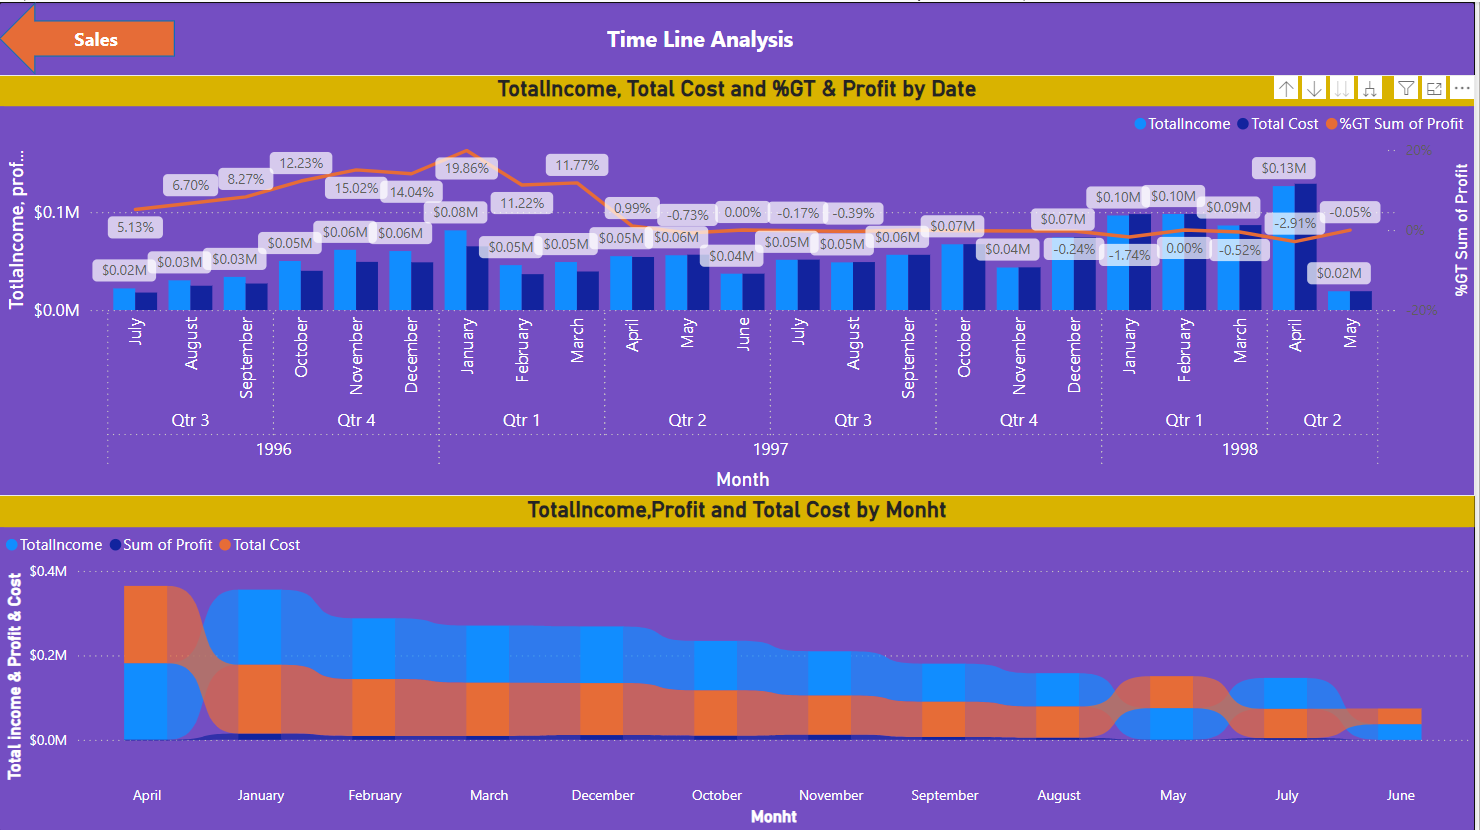

The page's visual inventory and layout, read from the dashboard file:
{"tool":"powerbi","page":{"name":"TimeLine","canvas":[1280,720],"ordinal":11},"visuals":[{"type":"lineClusteredColumnComboChart","title":"TotalIncome, Total Cost and %GT & Profit by Date","fields":{"Category":["calendar.Date.Variation.Date Hierarchy.Year","calendar.Date.Variation.Date Hierarchy.Quarter","calendar.Date.Variation.Date Hierarchy.Month","calendar.Date.Variation.Date Hierarchy.Day"],"Y":["Details.TotalIncome","OrdersDetails.Total Cost"],"Y2":["Sum(OrdersDetails.Profit)"]},"box":[0,63.3,1280.4,365.2],"z":0},{"type":"ribbonChart","title":"TotalIncome,Profit and Total Cost by Monht","fields":{"Category":["calendar.Monht"],"Y":["Details.TotalIncome","Sum(OrdersDetails.Profit)","OrdersDetails.Total Cost"]},"box":[0,428.5,1280.4,291.5],"z":1000},{"type":"shape","box":[0,0,152.7,63.3],"z":2000},{"type":"shape","box":[458,0,300.1,63.3],"z":3000}]}

Visuals, with their boxes in screenshot pixels (x1, y1, x2, y2), scaled from the page's 1280x720 canvas onto the 1480x830 screenshot:
"TotalIncome, Total Cost and %GT & Profit by Date" lineClusteredColumnComboChart: bbox=(0, 73, 1479, 494)
"TotalIncome,Profit and Total Cost by Monht" ribbonChart: bbox=(0, 494, 1479, 829)
shape: bbox=(0, 0, 177, 73)
shape: bbox=(530, 0, 877, 73)
